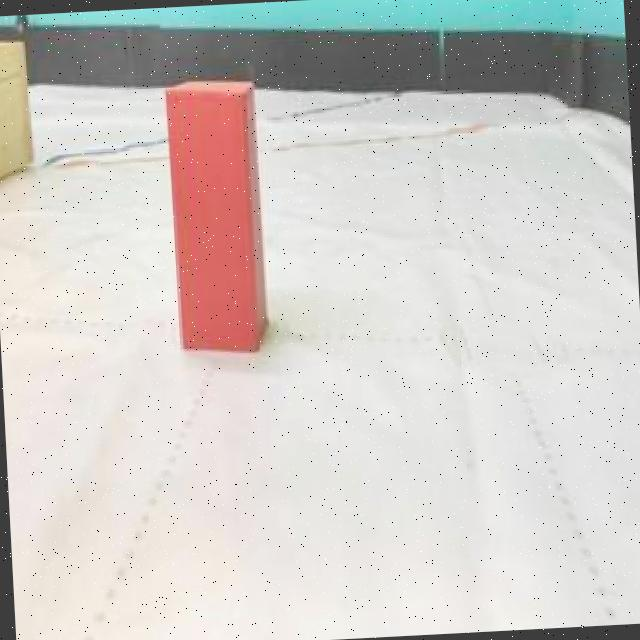redbox: (163, 76, 268, 358)
